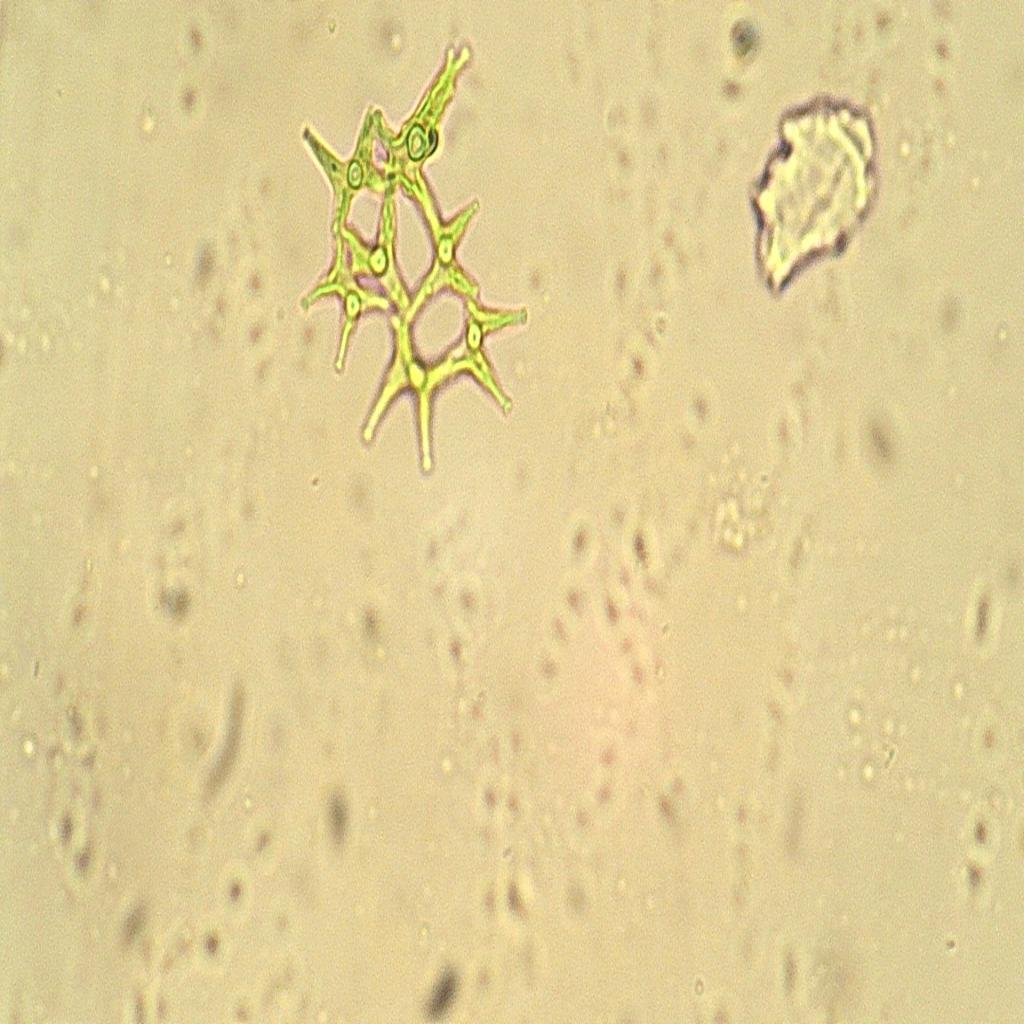Pediastrum_1TH: (284, 9, 552, 501)
